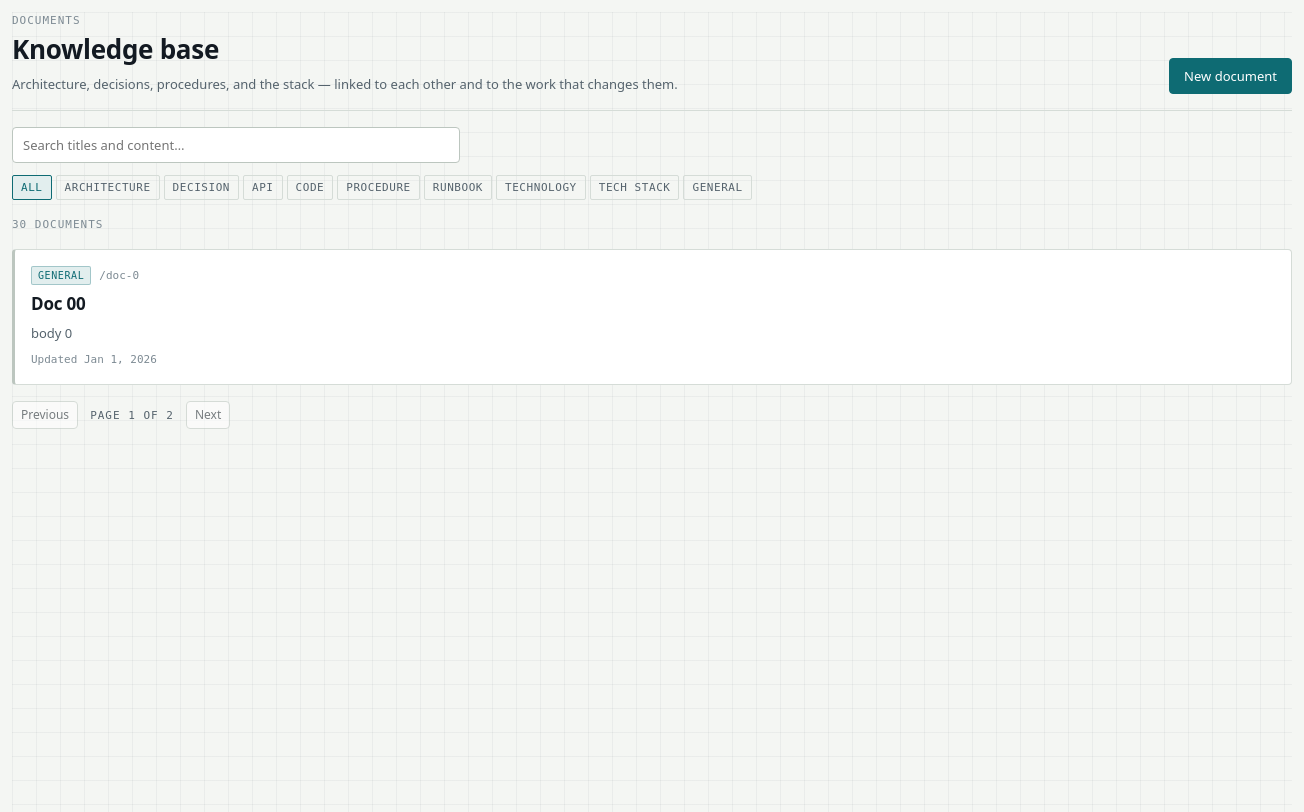
Scenario: DocumentListPage paging › filtering by a type with no matches › offers a way back to the full list
Expected: the heading "Doc 00" is shown, left=31, top=292, right=86, bottom=315
Click the button "Code" at (310, 187), box left=286, top=175, right=333, bottom=200
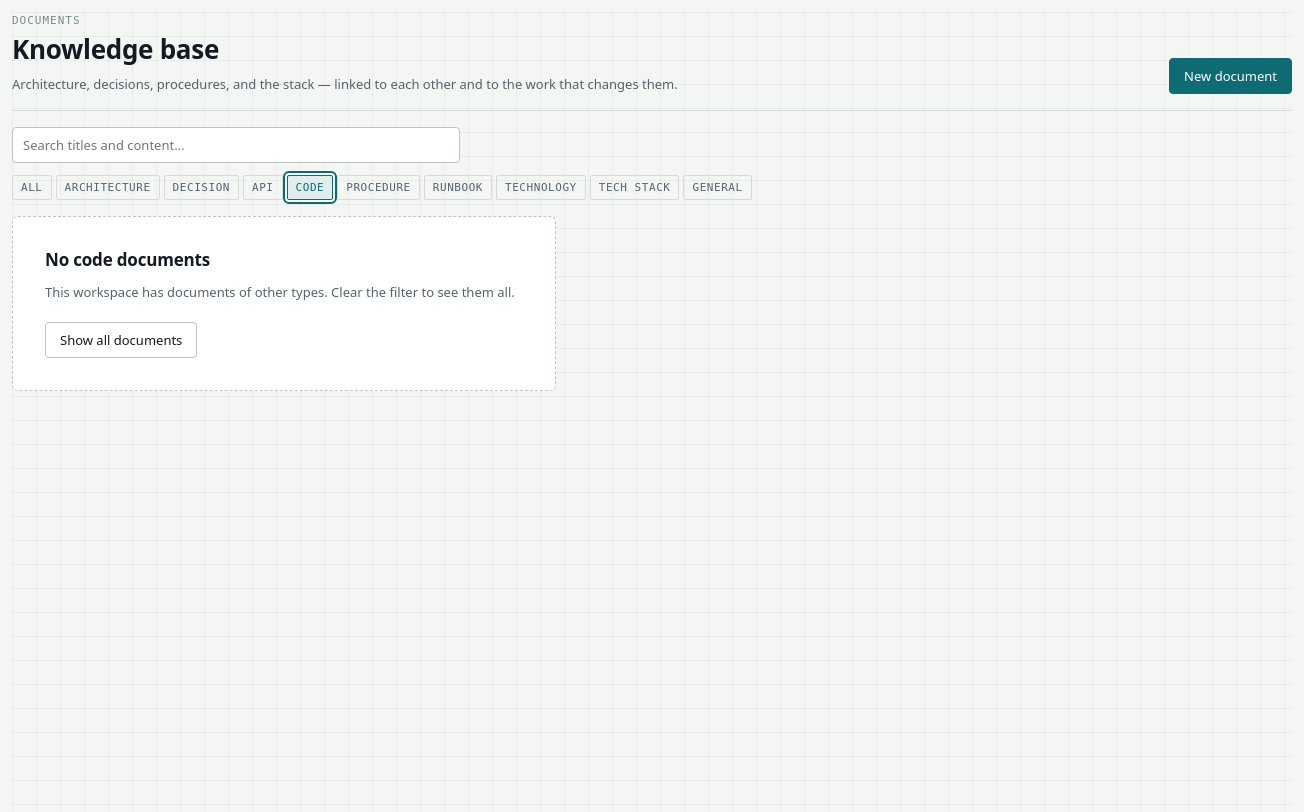
Expected: the heading "No code documents" is shown, left=45, top=249, right=210, bottom=270
Click the button "Show all documents" at (121, 340), box left=45, top=322, right=197, bottom=358
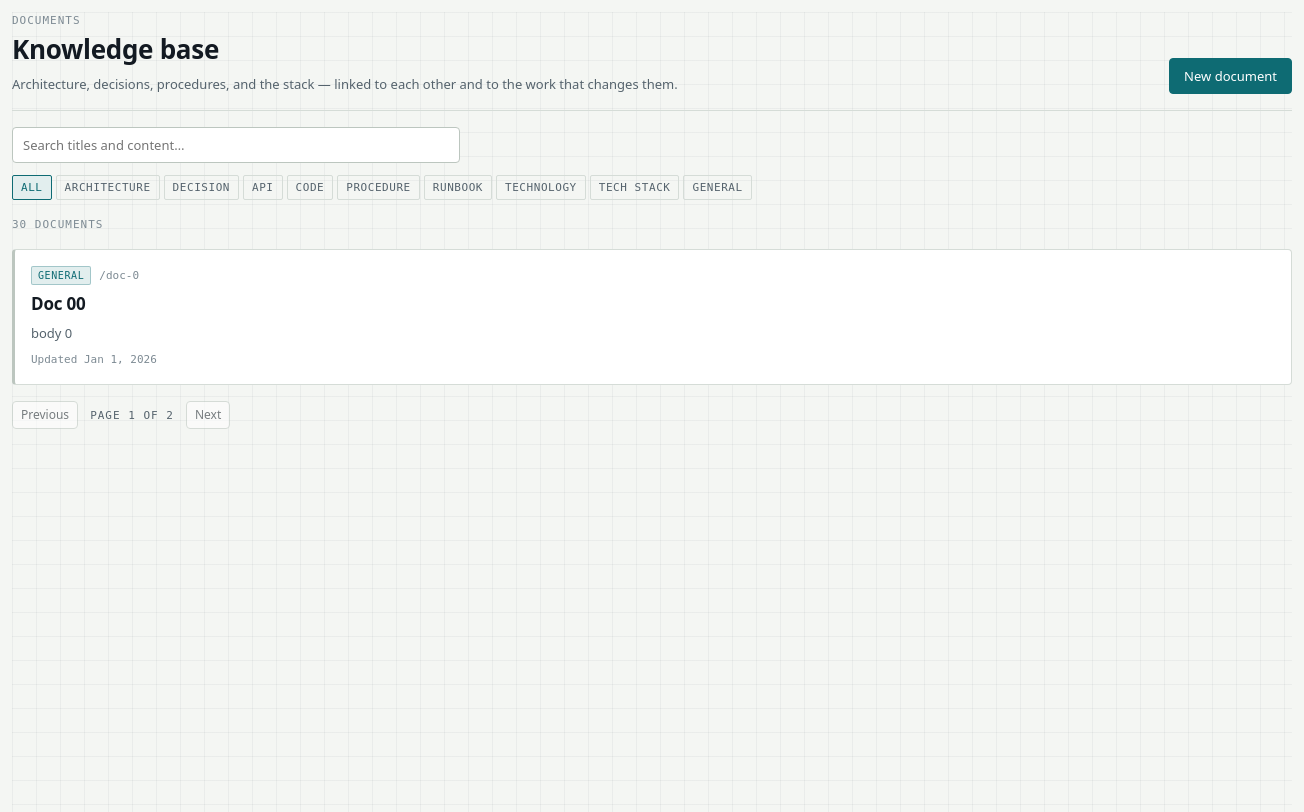
Expected: the heading "Doc 00" is shown, left=31, top=292, right=86, bottom=315
